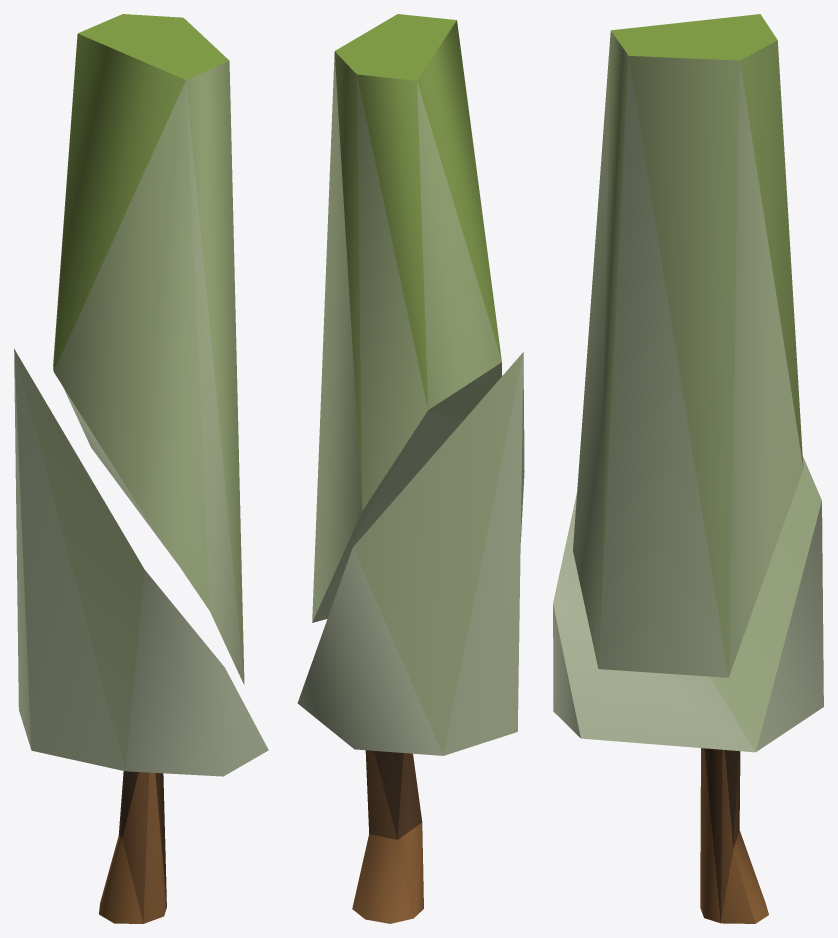
File: angular_tree_spire__spring.glb
3 views of the same model, side by side, from view 1: azimuth 30°, elevation 25°; view 2: azimuth 150°, elevation 25°; view 3: azimuth 270°, elevation 25° (orthographic). The views are drawn at different scales.
Bounding box in the file's own units: 1.37 × 5.4 × 1.51.
